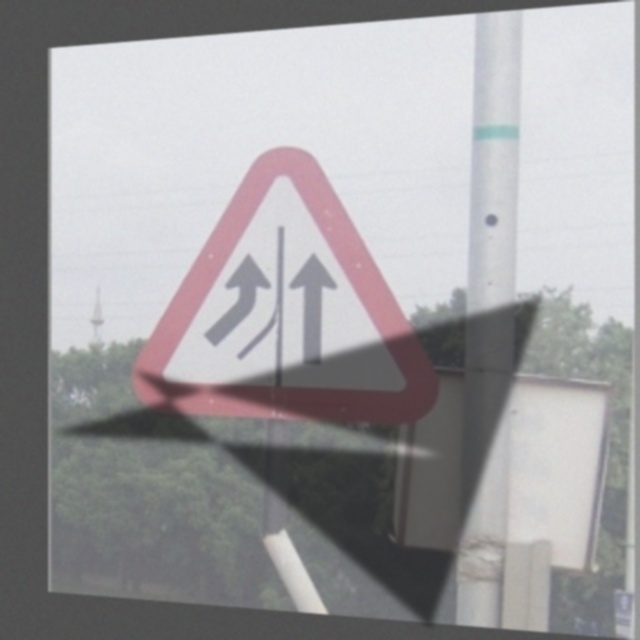Merge_Traffic_Ahead: (128, 133, 448, 441)
